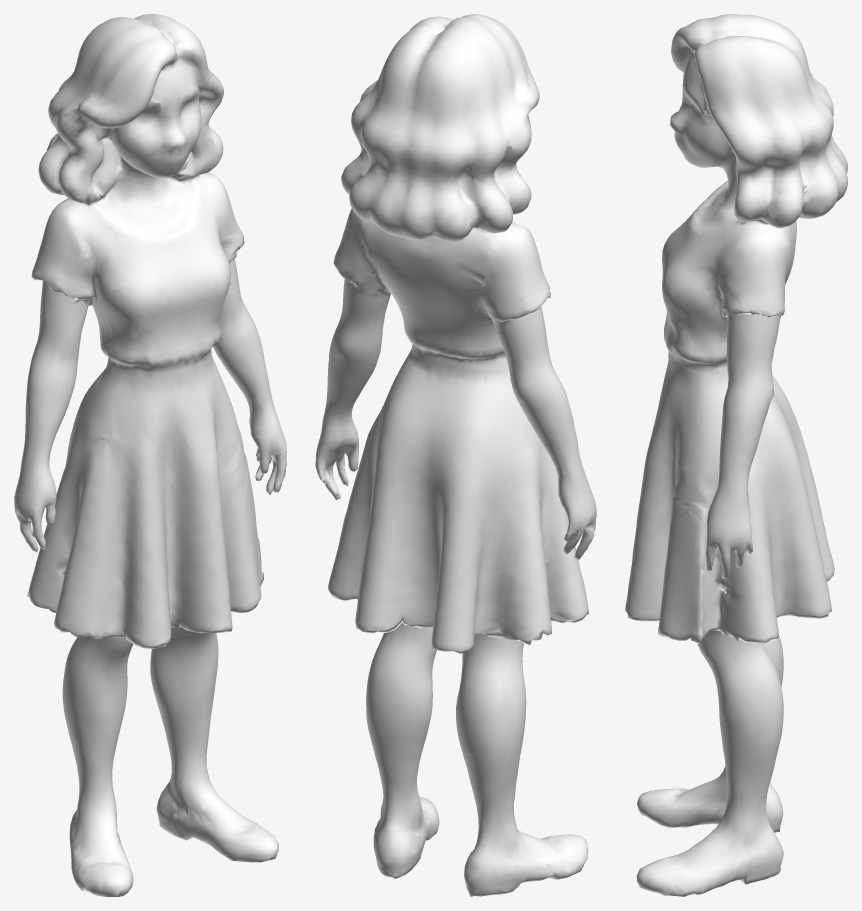
Rendered from OwnerWoman.fbx.
The picture shows the model from 3 angles, left to right: view 1: azimuth 30°, elevation 25°; view 2: azimuth 150°, elevation 25°; view 3: azimuth 270°, elevation 25°; orthographic projection. The views are drawn at different scales.
Parts seen in each view (by area): view 1: remesh; view 2: remesh; view 3: remesh.
Boxes of the visible parts, x1,y1,x2,y2 form: remesh: [14, 14, 286, 896]; remesh: [315, 14, 596, 896]; remesh: [625, 14, 847, 896].
Bounding box in the file's own units: 0.3351 × 0.2431 × 0.9998.
1 material, 1 textured.
